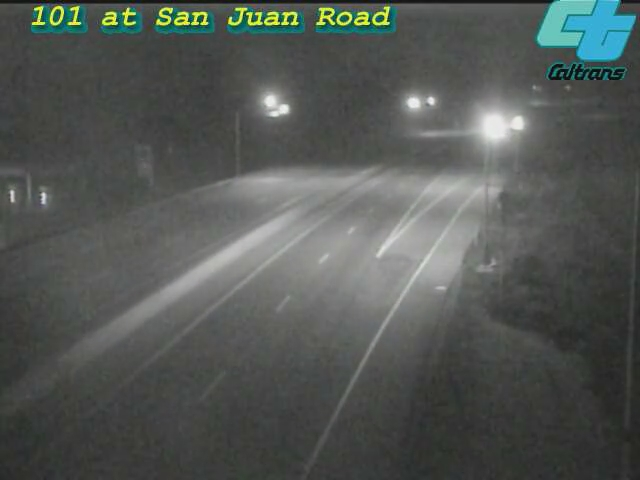vehicle: (467, 101, 517, 151), (491, 98, 541, 148)
